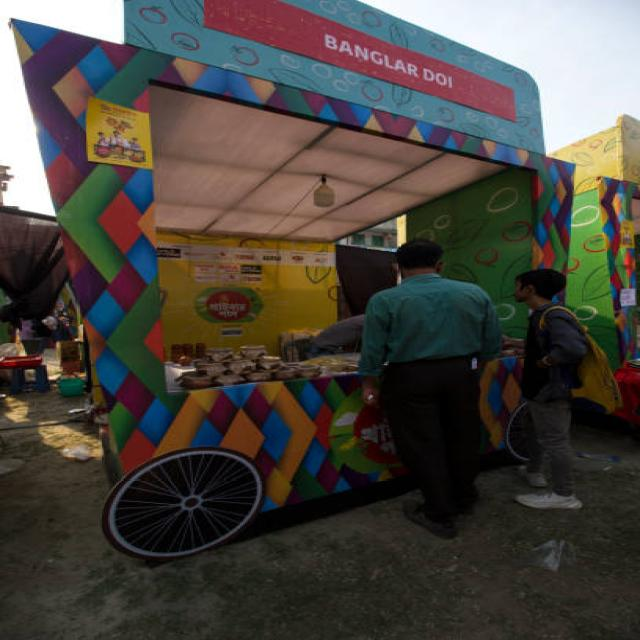Emperan: (0, 0, 612, 571)
